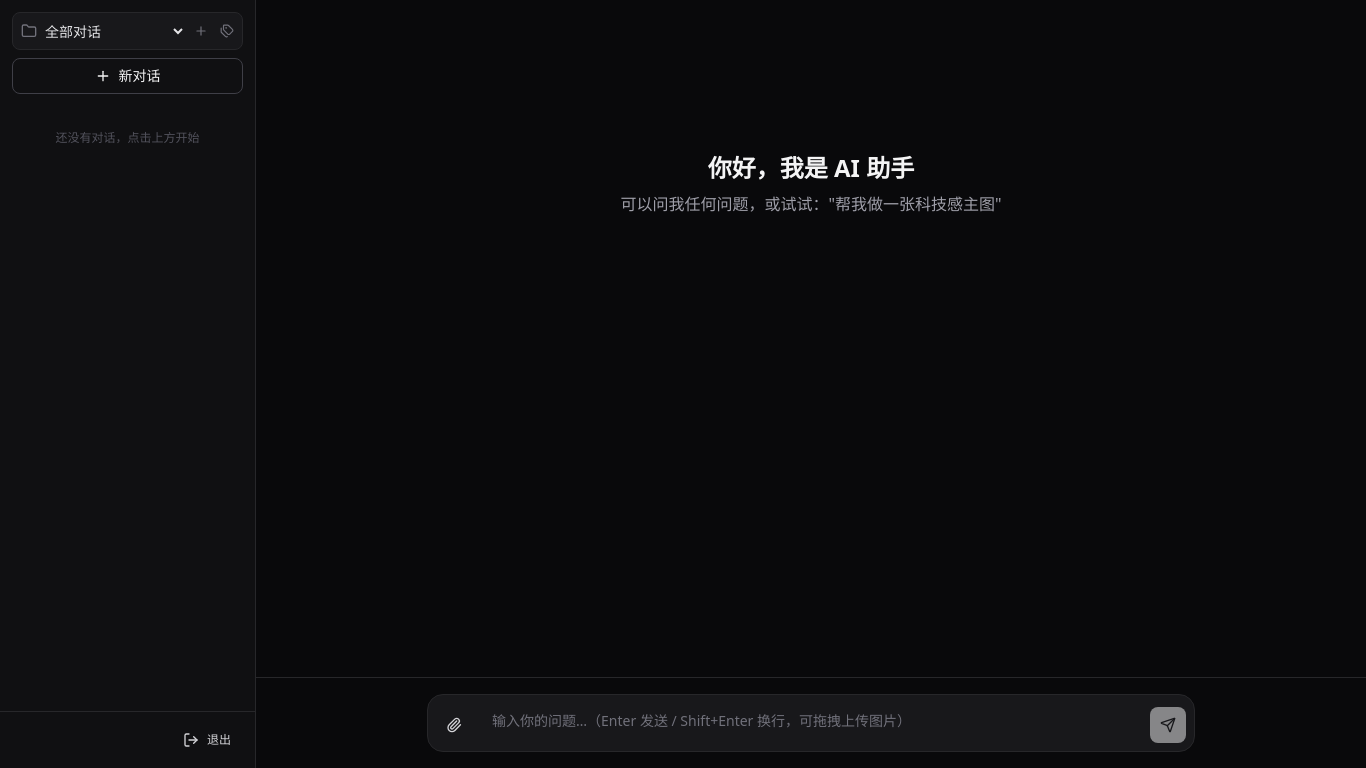
Test: 对话 PROVIDER_UNAVAILABLE 呈现（M13+ 模型配置页） › 其他错误码（PROVIDER_TIMEOUT）→ 既有红字文案（旧契约不回归）
Check: the button "新对话" is shown, box left=12, top=58, right=243, bottom=94
Type "帮我干活" into the text box with placeholder "输入你的问题…（Enter 发送 / Shift+Enter 换行，可拖拽上传图片）" at (811, 723), box left=480, top=703, right=1142, bottom=743
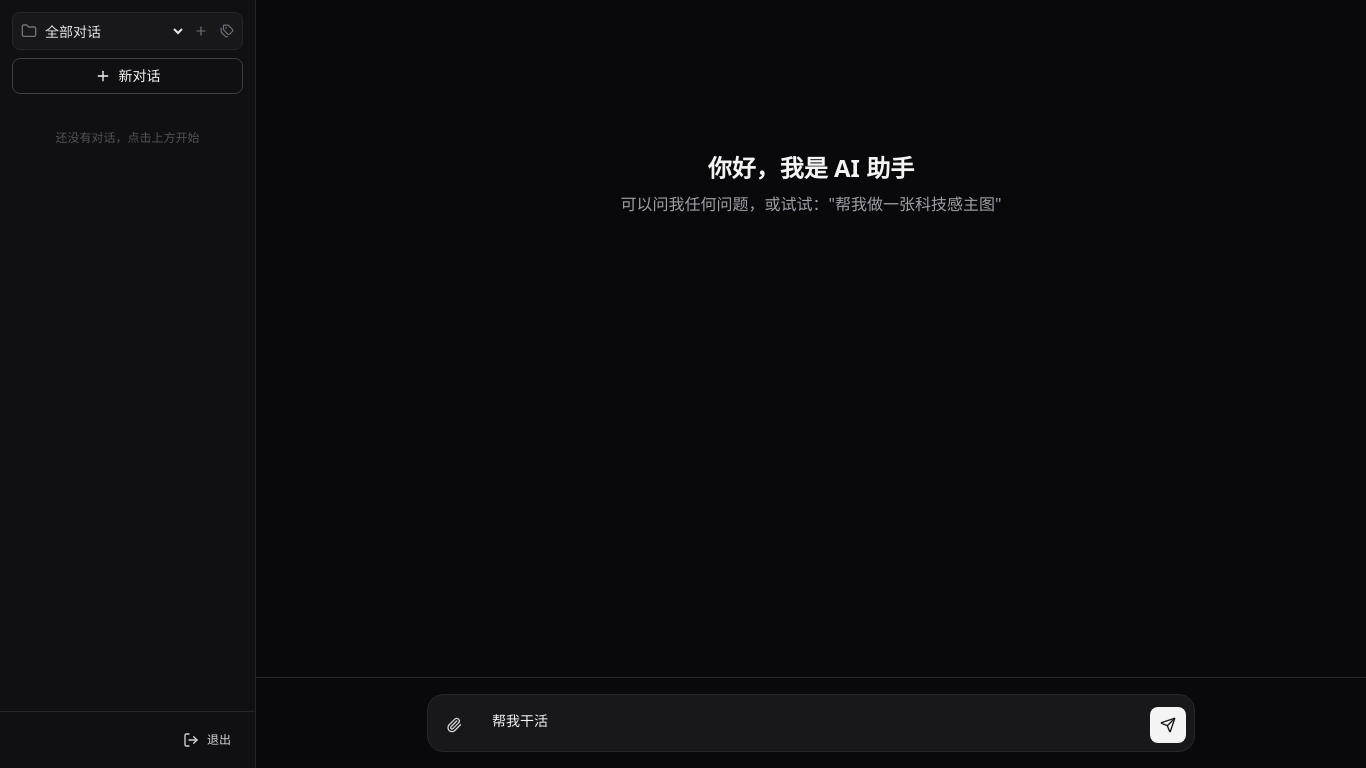
Click the button titled "发送" at (1168, 725), box left=1150, top=707, right=1186, bottom=743
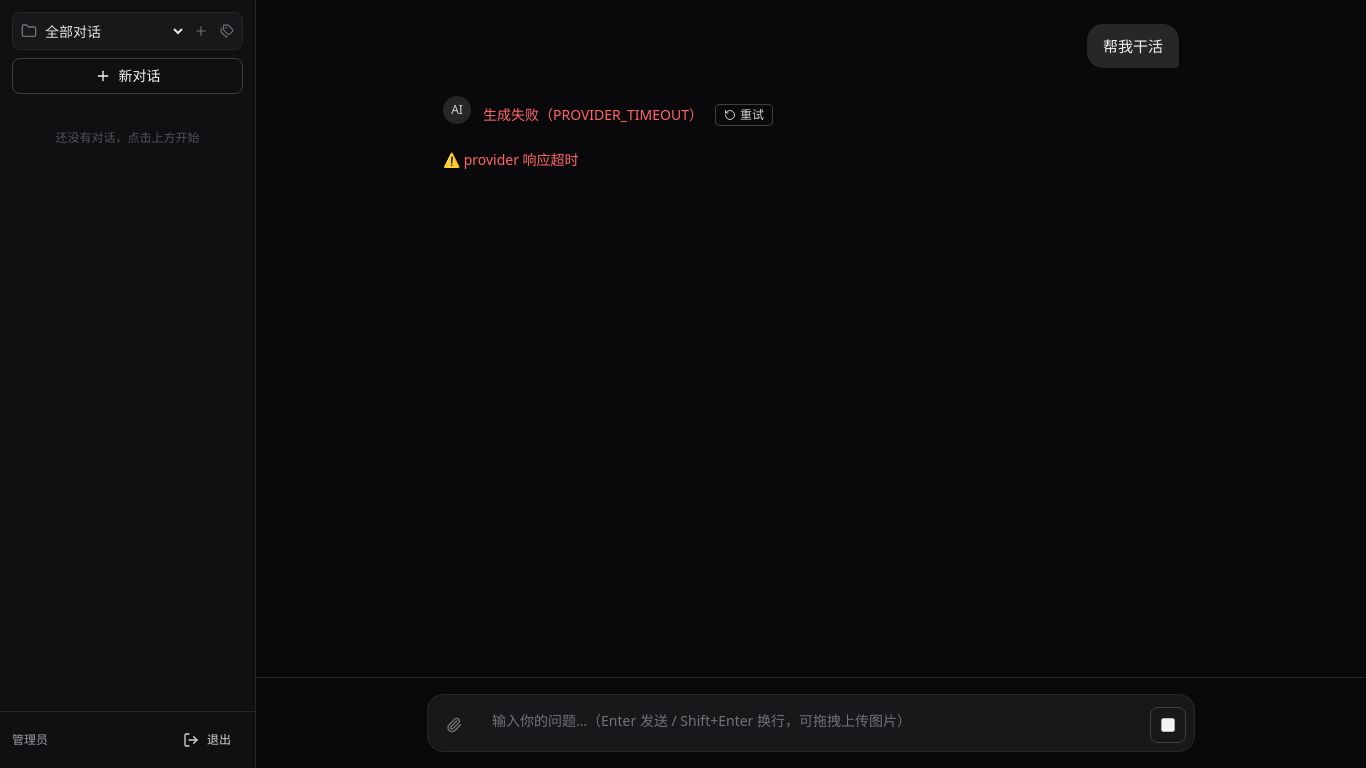
Check: the text "⚠ provider 响应超时" is shown, box left=443, top=150, right=579, bottom=169
